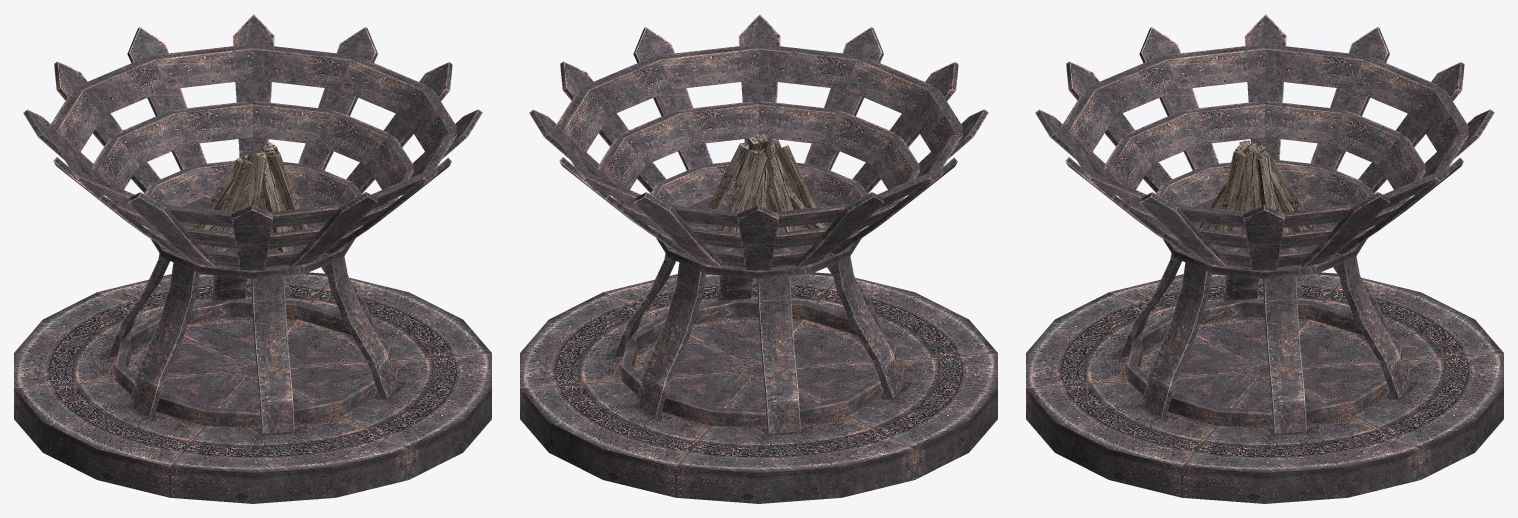
The model's file is Brazier2.fbx.
3 views of the same model, side by side, from view 1: azimuth 30°, elevation 25°; view 2: azimuth 150°, elevation 25°; view 3: azimuth 270°, elevation 25° (orthographic).
Parts seen in each view (by area): view 1: M4_Nigraturis_Beacon_SM_SCY; view 2: M4_Nigraturis_Beacon_SM_SCY; view 3: M4_Nigraturis_Beacon_SM_SCY.
Part boxes in pixels (<box>): M4_Nigraturis_Beacon_SM_SCY: <box>14,14,491,503</box>; M4_Nigraturis_Beacon_SM_SCY: <box>520,14,997,503</box>; M4_Nigraturis_Beacon_SM_SCY: <box>1026,14,1503,503</box>.
Bounding box in the file's own units: 1.16 × 0.7681 × 1.14.
1 material, 1 textured.
